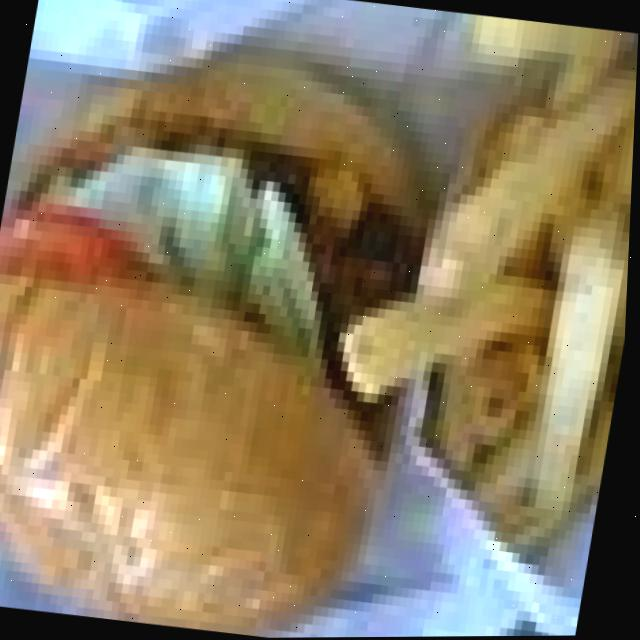汉堡快餐: (0, 26, 474, 640)
炸货点心: (305, 3, 640, 637)
